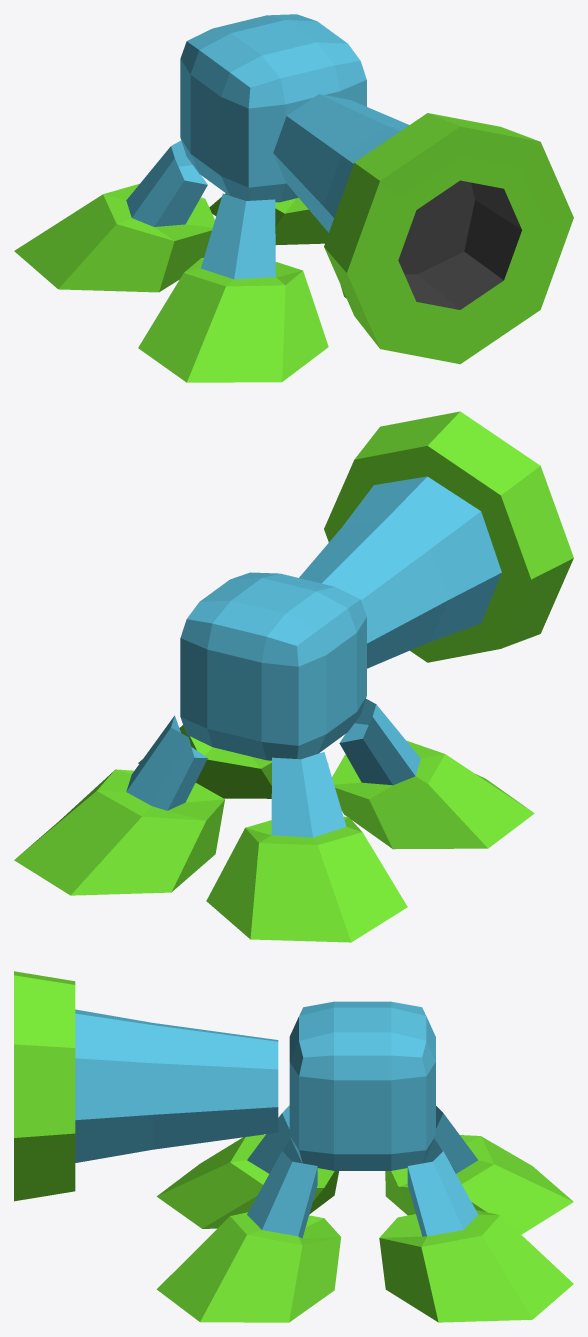
File: turret.fbx
3 renders of one model, top to bottom at view 1: azimuth 30°, elevation 25°; view 2: azimuth 150°, elevation 25°; view 3: azimuth 270°, elevation 25°, orthographic. The views are drawn at different scales.
Visible parts, largest first — view 1: Turret; view 2: Turret; view 3: Turret.
Boxes of the visible parts, x1,y1,x2,y2 form: Turret: (14,14,573,382); Turret: (14,411,573,942); Turret: (14,971,573,1322).
Bounding box in the file's own units: 5.16 × 4.03 × 7.65.
